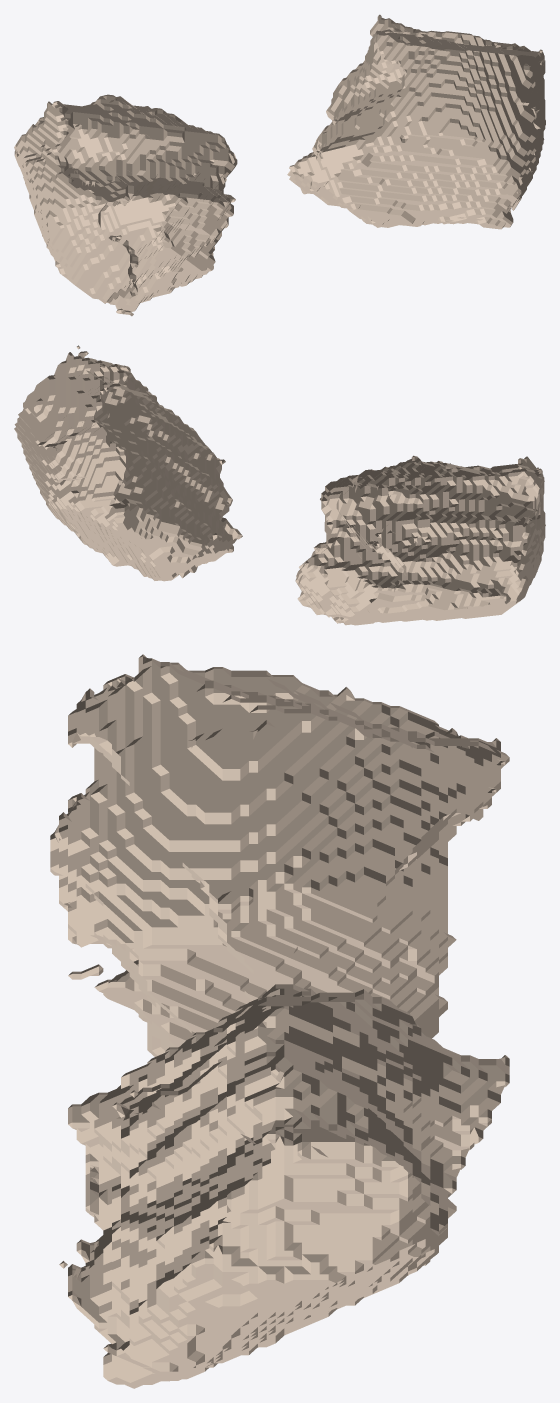
The model's file is region_0043_Dp__posterior_zone_of_dorsal_telencephalon_area_.glb.
3 views of the same model, one above another, from view 1: azimuth 30°, elevation 25°; view 2: azimuth 150°, elevation 25°; view 3: azimuth 270°, elevation 25° (orthographic). The views are drawn at different scales.
Visible parts, largest first — view 1: world; view 2: world; view 3: world.
Boxes of the visible parts, box(x1,y1,x2,y2) form: world: box(14, 14, 545, 316); world: box(14, 345, 545, 625); world: box(50, 654, 509, 1388).
Bounding box in the file's own units: 1.03 × 0.344 × 0.416.
